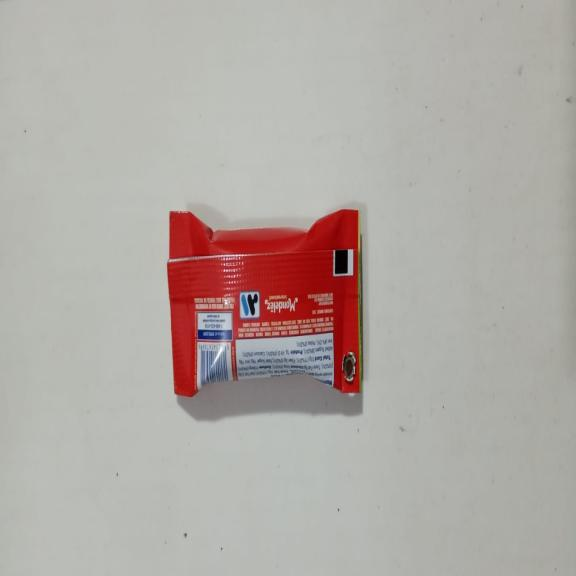Plastik: (167, 206, 361, 398)
